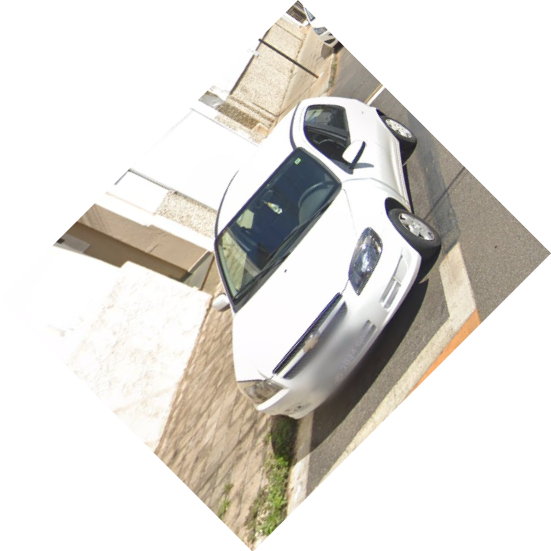car: (189, 91, 441, 432)
